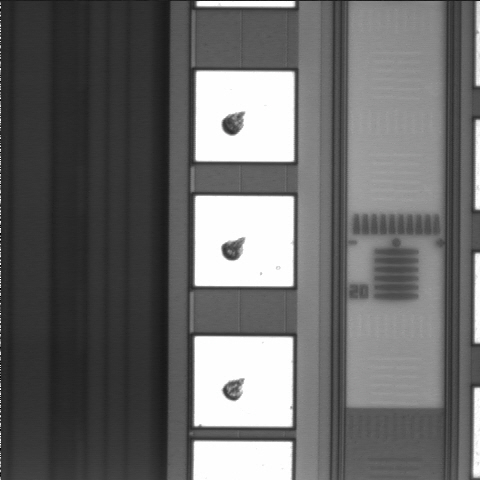pad: (194, 336, 293, 427), (196, 71, 294, 162), (195, 196, 294, 286)
